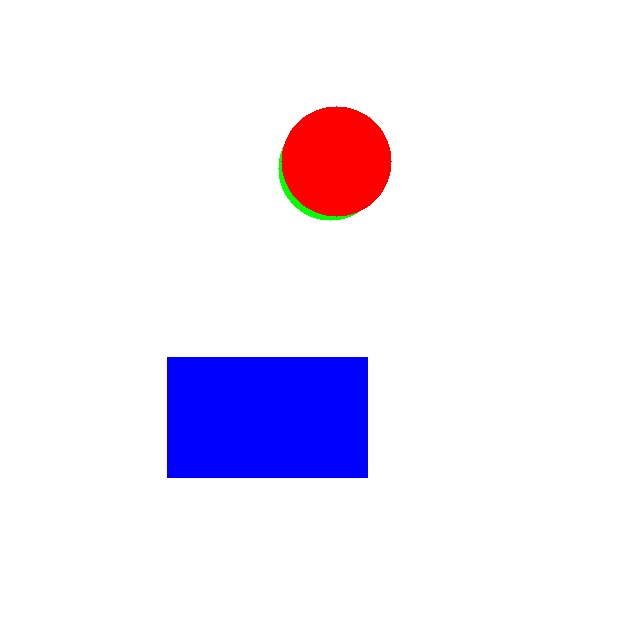cartao: (167, 357, 367, 477)
rosca_externa: (278, 116, 382, 220)
rosca_interna: (281, 106, 391, 216)
